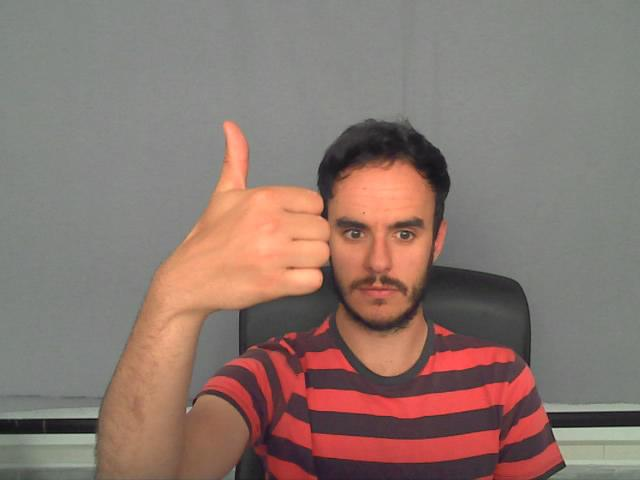thumbs-up: (193, 119, 330, 311)
